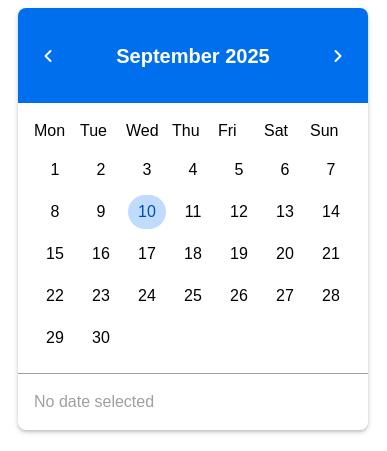
Test: DatePicker › selects a date and displays it
This screenshot has width=387, height=451.
Click the button "1". click: (55, 170)
box: [36, 153, 74, 187]
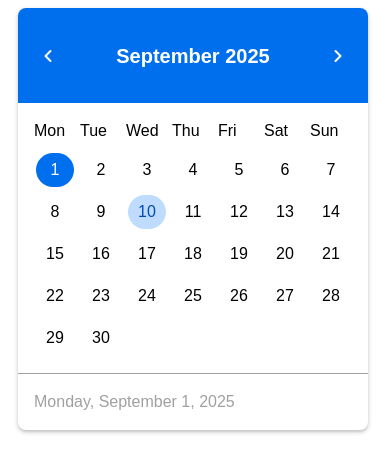
Expected: the text "Monday, September 1, 2025" is shown, [34, 390, 235, 414]
